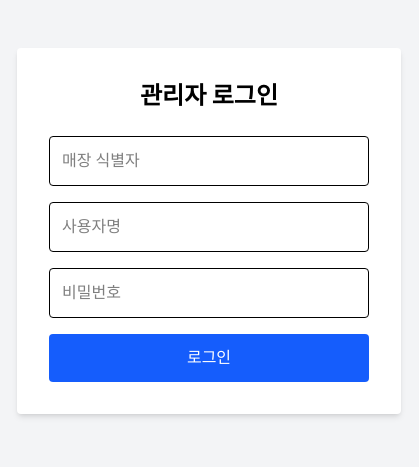
it: LoginPage › TC-FE2-011: should show error on failed login
The image size is (419, 467).
Type "store1" into the field with test id "login-store-id" at (209, 161), box [49,136,369,186]
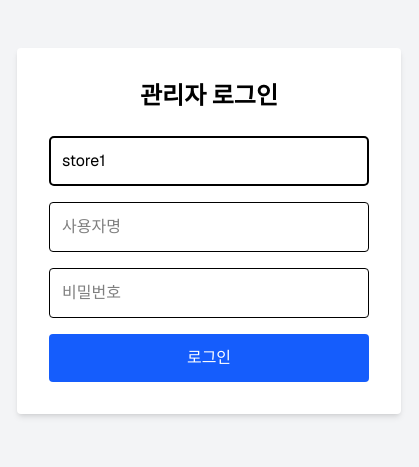
Type "admin" into the field with test id "login-username" at (209, 227), box [49,202,369,252]
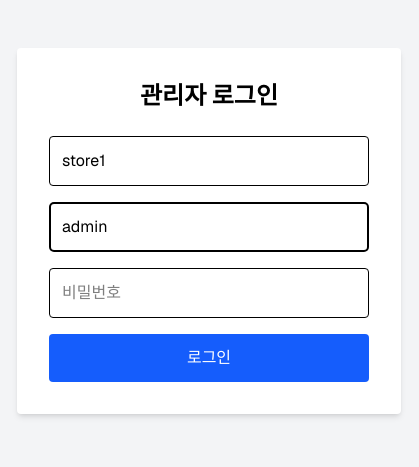
Type "wrong" into the password field with test id "login-password" at (209, 293), box [49,268,369,318]
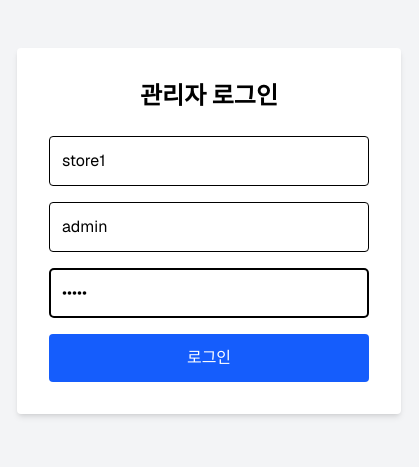
Click the button with test id "login-submit" at (209, 358), box [49,334,369,382]
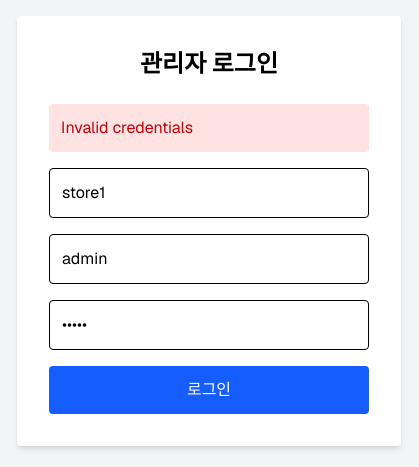
Now the text "Invalid credentials" is shown, box [49,104,369,152]
